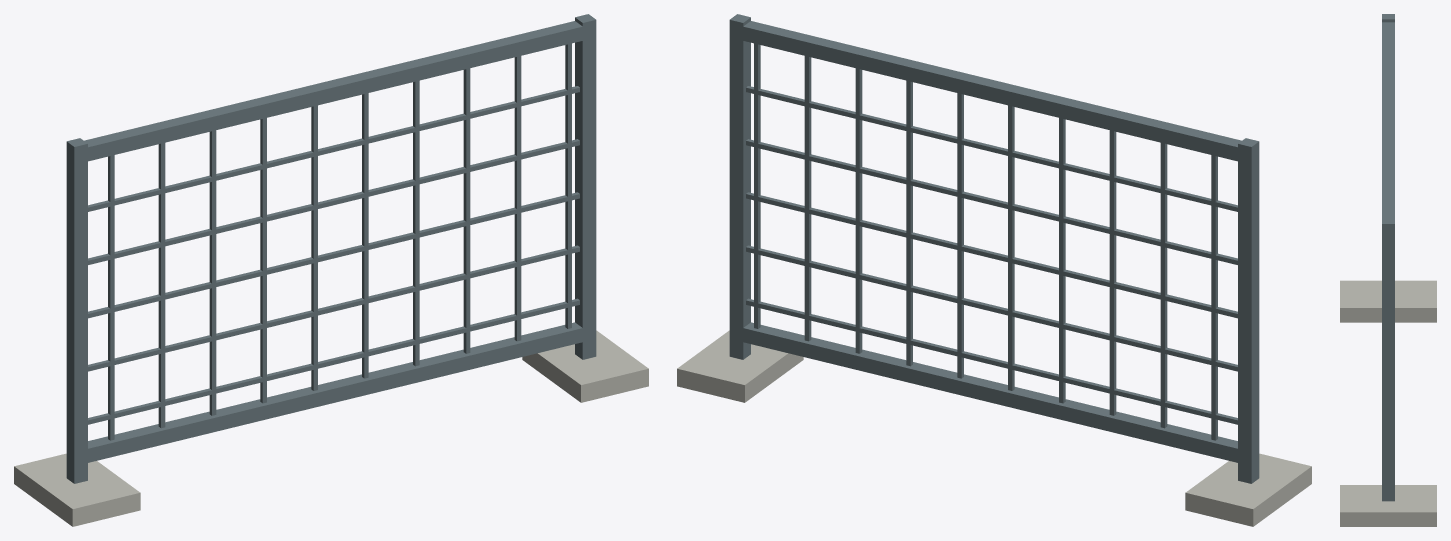
File: zombie-quarantine-streets-chain-fence-bay-014919d4.glb
3 renders of one model, left to right at view 1: azimuth 30°, elevation 25°; view 2: azimuth 150°, elevation 25°; view 3: azimuth 270°, elevation 25°, orthographic. The views are drawn at different scales.
Visible parts, largest first — view 1: chain-fence-bay; view 2: chain-fence-bay; view 3: chain-fence-bay.
Part boxes in pixels (bbox=[...]): chain-fence-bay: bbox=[14, 14, 648, 526]; chain-fence-bay: bbox=[677, 14, 1311, 526]; chain-fence-bay: bbox=[1340, 14, 1436, 526].
Bounding box in the file's own units: 3.4 × 2 × 0.5997.
